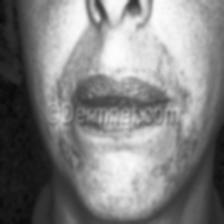Non-Cancerous Skin Condition: (82, 0, 182, 67), (148, 129, 206, 203), (100, 150, 148, 216), (58, 127, 98, 200)
